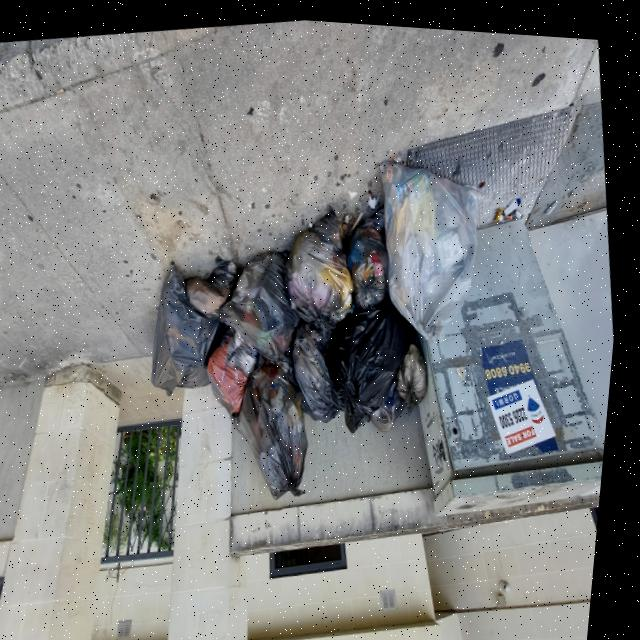Mixed Waste -Black Bag-: (320, 282, 438, 434), (225, 349, 329, 504), (140, 249, 239, 400), (212, 243, 313, 380), (275, 198, 371, 342), (289, 312, 356, 423), (340, 197, 404, 311), (205, 319, 276, 416), (371, 371, 422, 430), (397, 335, 440, 404)
Recycled Waste -Grey or Green Bag-: (368, 140, 507, 346)
